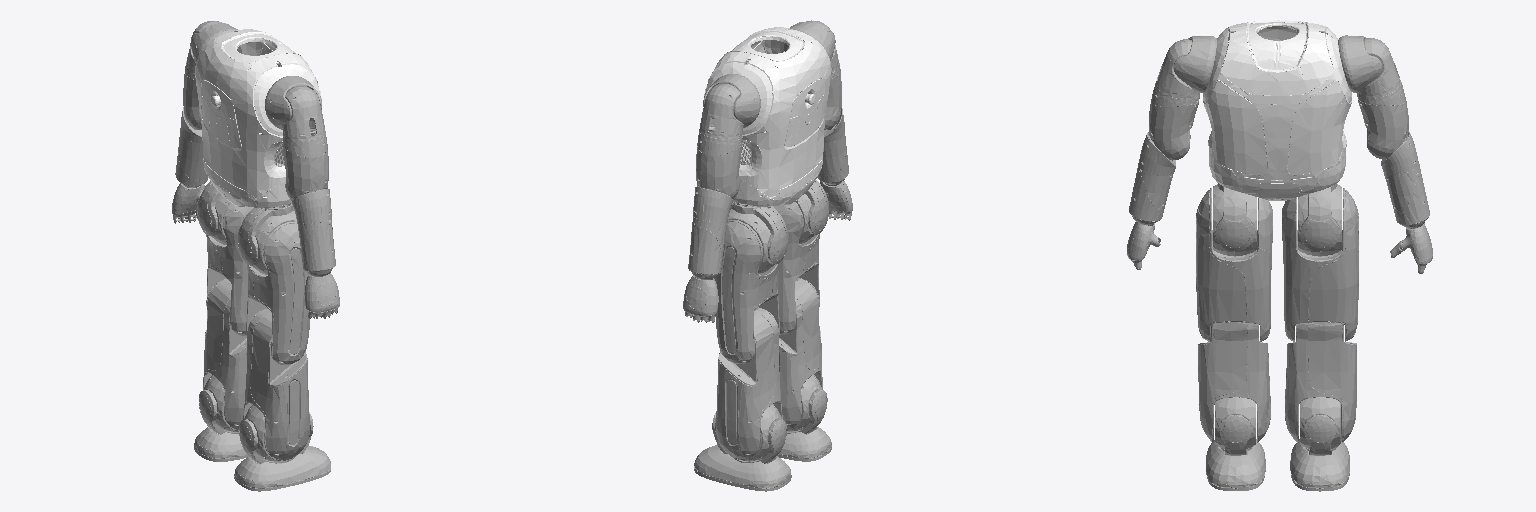
--- What the picture shows (computed from the rendered views, not written in the file) ---
The picture shows the robot from 3 angles, left to right: view 1: azimuth 30°, elevation 25°; view 2: azimuth 150°, elevation 25°; view 3: azimuth 270°, elevation 25°; orthographic projection.
Model walker with 56 links and 55 joints (48 revolute, 7 fixed), rooted at base_link, posed every joint at zero.
Links seen in each view (by area): view 1: base_link, right_leg_l4, right_leg_l3, left_leg_l4, left_leg_l3, right_leg_link2, right_limb_l3, right_limb_l2, right_limb_l5, left_leg_link2, right_leg_l1, right_palm_link (+12 smaller); view 2: base_link, left_leg_l4, left_leg_l3, right_leg_l4, right_leg_l3, left_leg_link2, left_limb_l3, left_limb_l2, left_limb_l5, right_leg_link2, left_palm_link, left_leg_l1 (+12 smaller); view 3: base_link, right_leg_l3, left_leg_l3, left_leg_l4, right_leg_l4, left_limb_l3, right_limb_l3, left_leg_link2, right_leg_link2, left_limb_l5, left_leg_l1, right_leg_l1 (+15 smaller).
Link boxes in pixels (x1,y1,x2,y2): base_link: (195, 29, 321, 207); right_leg_l4: (243, 308, 309, 459); right_leg_l3: (246, 221, 309, 364); left_leg_l4: (203, 279, 246, 429); left_leg_l3: (206, 203, 252, 335); right_leg_link2: (234, 445, 330, 491); right_limb_l3: (283, 134, 328, 200); right_limb_l2: (283, 86, 325, 141); right_limb_l5: (297, 218, 335, 271); left_leg_link2: (194, 427, 248, 461); right_leg_l1: (238, 204, 294, 265); right_palm_link: (304, 273, 339, 318); base_link: (704, 27, 831, 206); left_leg_l4: (716, 307, 782, 459); left_leg_l3: (714, 220, 779, 363); right_leg_l4: (779, 278, 822, 429); right_leg_l3: (773, 202, 819, 334); left_leg_link2: (694, 445, 791, 491); left_limb_l3: (696, 132, 742, 198); left_limb_l2: (699, 84, 742, 139); left_limb_l5: (688, 217, 727, 274); right_leg_link2: (777, 427, 831, 461); left_palm_link: (683, 276, 718, 322); left_leg_l1: (730, 202, 788, 263); base_link: (1203, 20, 1351, 200); right_leg_l3: (1196, 188, 1272, 341); left_leg_l3: (1282, 188, 1358, 341); left_leg_l4: (1285, 322, 1356, 442); right_leg_l4: (1198, 322, 1270, 442); left_limb_l3: (1357, 82, 1408, 158); right_limb_l3: (1149, 83, 1199, 160); left_leg_link2: (1290, 439, 1349, 491); right_leg_link2: (1206, 439, 1265, 490); left_limb_l5: (1384, 164, 1429, 225); left_leg_l1: (1300, 183, 1339, 251); right_leg_l1: (1215, 183, 1254, 251).
Bounding box of the posed robot: 0.2937 × 0.7949 × 1.25 m (x, y, z).
30 mesh visuals loaded from 54 distinct referenced files (30 binary STL); not drawn: 24 (reference not matched to a file when rendering).

robot.urdf — walker:
<robot
  name="walker">
  <link
    name="base_link">
    <inertial>
      <origin
        xyz="-0.00124874653232382 0.000246598785695634 -0.111598785207968"
        rpy="0 0 0" />
      <mass
        value="1.64221424158838" />
      <inertia
        ixx="0.0504230367553516"
        ixy="9.48207899309819E-06"
        ixz="0.000402652939677054"
        iyy="0.0425230890142075"
        iyz="3.19033530756639E-05"
        izz="0.0360972564220647" />
    </inertial>
    <visual>
      <origin
        xyz="0 0 0"
        rpy="0 0 0" />
      <geometry>
        <mesh
          filename="package://walker_description/meshes/base_link.STL" />
      </geometry>
      <material
        name="">
        <color
          rgba="1 1 1 1" />
      </material>
    </visual>
    <collision>
      <origin
        xyz="0 0 0"
        rpy="0 0 0" />
      <geometry>
        <mesh
          filename="package://walker_description/meshes/base_link.STL" />
      </geometry>
    </collision>
  </link>
  <link
    name="right_limb_l1">
    <inertial>
      <origin
        xyz="-0.00722075380474052 0.000182063550966449 -0.0361420965458128"
        rpy="0 0 0" />
      <mass
        value="0.0906357127023235" />
      <inertia
        ixx="0.000311522358740572"
        ixy="9.35574756778796E-08"
        ixz="9.36994646655716E-06"
        iyy="0.000215286397239846"
        iyz="1.95199653306617E-07"
        izz="0.000396295467948814" />
    </inertial>
    <visual>
      <origin
        xyz="0 0 0"
        rpy="0 0 0" />
      <geometry>
        <mesh
          filename="package://walker_description/meshes/right_limb_l1.STL" />
      </geometry>
      <material
        name="">
        <color
          rgba="0.752941176470588 0.752941176470588 0.752941176470588 1" />
      </material>
    </visual>
    <collision>
      <origin
        xyz="0 0 0"
        rpy="0 0 0" />
      <geometry>
        <mesh
          filename="package://walker_description/meshes/right_limb_l1.STL" />
      </geometry>
    </collision>
  </link>
  <joint
    name="right_limb_j1"
    type="revolute">
    <origin
      xyz="0 -0.23665 0.0163"
      rpy="-1.9576E-06 1.3107 -1.5708" />
    <parent
      link="base_link" />
    <child
      link="right_limb_l1" />
    <axis
      xyz="0 0 -1" />
    <limit
      lower="-3.1416"
      upper="0.8722"
      effort="96.2"
      velocity="0" />
  </joint>
  <link
    name="right_limb_l2">
    <inertial>
      <origin
        xyz="-0.00196280070849963 0.0273168501674689 -0.000134287637530872"
        rpy="0 0 0" />
      <mass
        value="0.113461395789569" />
      <inertia
        ixx="0.000358148474769472"
        ixy="4.04459296835339E-06"
        ixz="-1.32587419890355E-07"
        iyy="0.000288726351260568"
        iyz="-2.60810750383314E-07"
        izz="0.000390106430816898" />
    </inertial>
    <visual>
      <origin
        xyz="0 0 0"
        rpy="0 0 0" />
      <geometry>
        <mesh
          filename="package://walker_description/meshes/right_limb_l2.STL" />
      </geometry>
      <material
        name="">
        <color
          rgba="0.752941176470588 0.752941176470588 0.752941176470588 1" />
      </material>
    </visual>
    <collision>
      <origin
        xyz="0 0 0"
        rpy="0 0 0" />
      <geometry>
        <mesh
          filename="package://walker_description/meshes/right_limb_l2.STL" />
      </geometry>
    </collision>
  </link>
  <joint
    name="right_limb_j2"
    type="revolute">
    <origin
      xyz="0 0 0"
      rpy="2.5133 1.5708 0.94251" />
    <parent
      link="right_limb_l1" />
    <child
      link="right_limb_l2" />
    <axis
      xyz="0 0 -1" />
    <limit
      lower="-1.6572"
      upper="0.1047"
      effort="96.2"
      velocity="0" />
  </joint>
  <link
    name="right_limb_l3">
    <inertial>
      <origin
        xyz="0.00629656239509119 -0.000210202146791738 -0.0621806056819393"
        rpy="0 0 0" />
      <mass
        value="0.135195223417304" />
      <inertia
        ixx="0.000578598259089344"
        ixy="1.06936365158182E-06"
        ixz="-2.64856345206635E-05"
        iyy="0.00055597686018737"
        iyz="-3.95057844818449E-07"
        izz="0.000447021332772511" />
    </inertial>
    <visual>
      <origin
        xyz="0 0 0"
        rpy="0 0 0" />
      <geometry>
        <mesh
          filename="package://walker_description/meshes/right_limb_l3.STL" />
      </geometry>
      <material
        name="">
        <color
          rgba="0.752941176470588 0.752941176470588 0.752941176470588 1" />
      </material>
    </visual>
    <collision>
      <origin
        xyz="0 0 0"
        rpy="0 0 0" />
      <geometry>
        <mesh
          filename="package://walker_description/meshes/right_limb_l3.STL" />
      </geometry>
    </collision>
  </link>
  <joint
    name="right_limb_j3"
    type="revolute">
    <origin
      xyz="-0.00064368 0.22946 0"
      rpy="-1.5708 -5.382E-07 1.8518E-13" />
    <parent
      link="right_limb_l2" />
    <child
      link="right_limb_l3" />
    <axis
      xyz="0 0 1" />
    <limit
      lower="-2.0072"
      upper="2.0072"
      effort="96.2"
      velocity="0" />
  </joint>
  <link
    name="right_limb_l4">
    <inertial>
      <origin
        xyz="0.0187332468499471 0.0270289413426349 -0.000700111734367959"
        rpy="0 0 0" />
      <mass
        value="0.111555587464306" />
      <inertia
        ixx="0.000288414802228566"
        ixy="-3.8255971416539E-05"
        ixz="-1.37491897701913E-06"
        iyy="0.000238322279447384"
        iyz="-1.45890833294397E-06"
        izz="0.00032269764599304" />
    </inertial>
    <visual>
      <origin
        xyz="0 0 0"
        rpy="0 0 0" />
      <geometry>
        <mesh
          filename="package://walker_description/meshes/right_limb_l4.STL" />
      </geometry>
      <material
        name="">
        <color
          rgba="0.752941176470588 0.752941176470588 0.752941176470588 1" />
      </material>
    </visual>
    <collision>
      <origin
        xyz="0 0 0"
        rpy="0 0 0" />
      <geometry>
        <mesh
          filename="package://walker_description/meshes/right_limb_l4.STL" />
      </geometry>
    </collision>
  </link>
  <joint
    name="right_limb_j4"
    type="revolute">
    <origin
      xyz="0.02546 0 0"
      rpy="1.5708 -0.050009 -3.1416" />
    <parent
      link="right_limb_l3" />
    <child
      link="right_limb_l4" />
    <axis
      xyz="0 0 -1" />
    <limit
      lower="-2.3572"
      upper="0"
      effort="27.3"
      velocity="0" />
  </joint>
  <link
    name="right_limb_l5">
    <inertial>
      <origin
        xyz="-0.000596823513585643 0.000121710879949472 -0.0604708516266729"
        rpy="0 0 0" />
      <mass
        value="0.102332990879977" />
      <inertia
        ixx="0.000317212358011218"
        ixy="8.88268591235818E-08"
        ixz="-1.43322638083362E-06"
        iyy="0.000310459779022516"
        iyz="-1.31927102955734E-06"
        izz="0.00020181632910904" />
    </inertial>
    <visual>
      <origin
        xyz="0 0 0"
        rpy="0 0 0" />
      <geometry>
        <mesh
          filename="package://walker_description/meshes/right_limb_l5.STL" />
      </geometry>
      <material
        name="">
        <color
          rgba="0.752941176470588 0.752941176470588 0.752941176470588 1" />
      </material>
    </visual>
    <collision>
      <origin
        xyz="0 0 0"
        rpy="0 0 0" />
      <geometry>
        <mesh
          filename="package://walker_description/meshes/right_limb_l5.STL" />
      </geometry>
    </collision>
  </link>
  <joint
    name="right_limb_j5"
    type="revolute">
    <origin
      xyz="0.024799 0.20964 0"
      rpy="-0.26632 -1.5708 -1.3045" />
    <parent
      link="right_limb_l4" />
    <child
      link="right_limb_l5" />
    <axis
      xyz="0 0 1" />
    <limit
      lower="-2.4472"
      upper="2.4472"
      effort="27.3"
      velocity="0" />
  </joint>
  <link
    name="right_limb_l6">
    <inertial>
      <origin
        xyz="0.0128445139242113 0.000377301016695641 -0.000161615308550689"
        rpy="0 0 0" />
      <mass
        value="0.0224407079927888" />
      <inertia
        ixx="2.98997054662723E-05"
        ixy="-1.80995710652571E-07"
        ixz="1.11151156519791E-08"
        iyy="1.83543369800577E-05"
        iyz="4.01989443243718E-09"
        izz="1.79177399902685E-05" />
    </inertial>
    <visual>
      <origin
        xyz="0 0 0"
        rpy="0 0 0" />
      <geometry>
        <mesh
          filename="package://walker_description/meshes/right_limb_l6.STL" />
      </geometry>
      <material
        name="">
        <color
          rgba="0.752941176470588 0.752941176470588 0.752941176470588 1" />
      </material>
    </visual>
    <collision>
      <origin
        xyz="0 0 0"
        rpy="0 0 0" />
      <geometry>
        <mesh
          filename="package://walker_description/meshes/right_limb_l6.STL" />
      </geometry>
    </collision>
  </link>
  <joint
    name="right_limb_j6"
    type="revolute">
    <origin
      xyz="0 0 0"
      rpy="-1.5708 -1.5708 3.1416" />
    <parent
      link="right_limb_l5" />
    <child
      link="right_limb_l6" />
    <axis
      xyz="0 0 1" />
    <limit
      lower="-0.8722"
      upper="0.8722"
      effort="27.3"
      velocity="0" />
  </joint>
  <link
    name="right_limb_l7">
    <inertial>
      <origin
        xyz="0.0128445139242113 -0.000161615367552381 -0.000377300991422524"
        rpy="0 0 0" />
      <mass
        value="0.0224407079927888" />
      <inertia
        ixx="2.98997054662723E-05"
        ixy="1.11151439557976E-08"
        ixz="1.80995708914405E-07"
        iyy="1.79177399890113E-05"
        iyz="-4.01982615810442E-09"
        izz="1.83543369813149E-05" />
    </inertial>
    <visual>
      <origin
        xyz="0 0 0"
        rpy="0 0 0" />
      <geometry>
        <mesh
          filename="package://walker_description/meshes/right_limb_l7.STL" />
      </geometry>
      <material
        name="">
        <color
          rgba="0.752941176470588 0.752941176470588 0.752941176470588 1" />
      </material>
    </visual>
    <collision>
      <origin
        xyz="0 0 0"
        rpy="0 0 0" />
      <geometry>
        <mesh
          filename="package://walker_description/meshes/right_limb_l7.STL" />
      </geometry>
    </collision>
  </link>
  <joint
    name="right_limb_j7"
    type="revolute">
    <origin
      xyz="0 0 0"
      rpy="1.5708 -5.9686E-17 -1.3235E-23" />
    <parent
      link="right_limb_l6" />
    <child
      link="right_limb_l7" />
    <axis
      xyz="0 0 1" />
    <limit
      lower="-0.8722"
      upper="0.8722"
      effort="0.5"
      velocity="0" />
  </joint>
  <link
    name="right_palm_link">
    <inertial>
      <origin
        xyz="-3828219289578.35 -27150220863645.8 -968441561583.929"
        rpy="0 0 0" />
      <mass
        value="3.12234020972045E+21" />
      <inertia
        ixx="1.53634202985905E+47"
        ixy="-2.16351114641765E+46"
        ixz="-7.71718993986728E+44"
        iyy="3.24580628152209E+45"
        iyz="-5.47312981480697E+45"
        izz="1.56489558934723E+47" />
    </inertial>
    <visual>
      <origin
        xyz="0 0 0"
        rpy="0 0 0" />
      <geometry>
        <mesh
          filename="package://walker_description/meshes/right_palm_link.STL" />
      </geometry>
      <material
        name="">
        <color
          rgba="0.752941176470588 0.752941176470588 0.752941176470588 1" />
      </material>
    </visual>
    <collision>
      <origin
        xyz="0 0 0"
        rpy="0 0 0" />
      <geometry>
        <mesh
          filename="package://walker_description/meshes/right_palm_link.STL" />
      </geometry>
    </collision>
  </link>
  <joint
    name="right_palm_joint"
    type="fixed">
    <origin
      xyz="0.074796 0.011942 -0.02228"
      rpy="-1.0945E-07 -1.947E-07 1.7826" />
    <parent
      link="right_limb_l7" />
    <child
      link="right_palm_link" />
    <axis
      xyz="0 0 0" />
  </joint>
  <link
    name="right_thumb_l1">
    <inertial>
      <origin
        xyz="0.0109078578963989 -0.000509975490572051 -0.00754093105655729"
        rpy="0 0 0" />
      <mass
        value="0.00861449029298091" />
      <inertia
        ixx="6.47380528455047E-07"
        ixy="2.31441793918312E-08"
        ixz="-4.86167105842184E-09"
        iyy="1.90689640236422E-06"
        iyz="-1.39055202737285E-09"
        izz="1.98835804128197E-06" />
    </inertial>
    <visual>
      <origin
        xyz="0 0 0"
        rpy="0 0 0" />
      <geometry>
        <mesh
          filename="package://walker_description/meshes/right_thumb_l1.STL" />
      </geometry>
      <material
        name="">
        <color
          rgba="0.752941176470588 0.752941176470588 0.752941176470588 1" />
      </material>
    </visual>
    <collision>
      <origin
        xyz="0 0 0"
        rpy="0 0 0" />
      <geometry>
        <mesh
          filename="package://walker_description/meshes/right_thumb_l1.STL" />
      </geometry>
    </collision>
  </link>
  <joint
    name="right_thumb_j1"
    type="revolute">
    <origin
      xyz="0.029243 -0.01232 0.046918"
      rpy="0.2841 0.15098 -0.74405" />
    <parent
      link="right_palm_link" />
    <child
      link="right_thumb_l1" />
    <axis
      xyz="0 0 -1" />
    <limit
      lower="0"
      upper="1.6580"
      effort="0"
      velocity="0" />
  </joint>
  <link
    name="right_thumb_l2">
    <inertial>
      <origin
        xyz="0.00381391224370206 -0.00519298982364755 0.00691359394439262"
        rpy="0 0 0" />
      <mass
        value="0.00424317818671666" />
      <inertia
        ixx="3.56400138109385E-07"
        ixy="1.05147480910058E-07"
        ixz="8.76003562787889E-10"
        iyy="2.70951305064936E-07"
        iyz="-1.69974504756808E-09"
        izz="4.26072223593777E-07" />
    </inertial>
    <visual>
      <origin
        xyz="0 0 0"
        rpy="0 0 0" />
      <geometry>
        <mesh
          filename="package://walker_description/meshes/right_thumb_l2.STL" />
      </geometry>
      <material
        name="">
        <color
          rgba="0.752941176470588 0.752941176470588 0.752941176470588 1" />
      </material>
    </visual>
    <collision>
      <origin
        xyz="0 0 0"
        rpy="0 0 0" />
      <geometry>
        <mesh
          filename="package://walker_description/meshes/right_thumb_l2.STL" />
      </geometry>
    </collision>
  </link>
  <joint
    name="right_thumb_j2"
    type="revolute">
    <origin
      xyz="0.03655 0 -0.014481"
      rpy="-9.1041E-12 5.5133E-12 0.77938" />
    <parent
      link="right_thumb_l1" />
    <child
      link="right_thumb_l2" />
    <axis
      xyz="0 0 -1" />
    <limit
      lower="0"
      upper="1.6580"
      effort="0"
      velocity="0" />
  </joint>
  <link
    name="right_index_l1">
    <inertial>
      <origin
        xyz="0.0152771482029217 0.000408639325092774 -0.00626307273726634"
        rpy="0 0 0" />
      <mass
        value="0.00605247314202229" />
      <inertia
        ixx="3.65783992374843E-07"
        ixy="-1.00934807954167E-08"
        ixz="2.80428619606092E-09"
        iyy="1.39916151323277E-06"
        iyz="-6.99237852502151E-10"
        izz="1.41553939969484E-06" />
    </inertial>
    <visual>
      <origin
        xyz="0 0 0"
        rpy="0 0 0" />
      <geometry>
        <mesh
          filename="package://walker_description/meshes/right_index_l1.STL" />
      </geometry>
      <material
        name="">
        <color
          rgba="0.752941176470588 0.752941176470588 0.752941176470588 1" />
      </material>
    </visual>
    <collision>
      <origin
        xyz="0 0 0"
        rpy="0 0 0" />
      <geometry>
        <mesh
          filename="package://walker_description/meshes/right_index_l1.STL" />
      </geometry>
    </collision>
  </link>
  <joint
    name="right_index_j1"
    type="revolute">
    <origin
      xyz="-0.017699 -0.07587 0.055574"
      rpy="0.02196 0.053684 -1.3927" />
    <parent
      link="right_palm_link" />
    <child
      link="right_index_l1" />
    <axis
      xyz="0 0 1" />
    <limit
      lower="0"
      upper="1.6580"
      effort="0"
      velocity="0" />
  </joint>
  <link
    name="right_index_l2">
    <inertial>
      <origin
        xyz="0.00234422723007122 -0.0102129867424654 0.00542736940606858"
        rpy="0 0 0" />
      <mass
        value="0.00445698708822696" />
      <inertia
        ixx="5.55945076014295E-07"
        ixy="7.93649952032311E-08"
        ixz="3.91934574204352E-09"
        iyy="2.06935930101657E-07"
        iyz="-2.05205145649744E-08"
        izz="5.96534224716838E-07" />
    </inertial>
    <visual>
      <origin
        xyz="0 0 0"
        rpy="0 0 0" />
      <geometry>
        <mesh
          filename="package://walker_description/meshes/right_index_l2.STL" />
      </geometry>
      <material
        name="">
        <color
          rgba="0.752941176470588 0.752941176470588 0.752941176470588 1" />
      </material>
    </visual>
    <collision>
      <origin
        xyz="0 0 0"
        rpy="0 0 0" />
      <geometry>
        <mesh
          filename="package://walker_description/meshes/right_index_l2.STL" />
      </geometry>
    </collision>
  </link>
  <joint
    name="right_index_j2"
    type="revolute">
    <origin
      xyz="0.038459 0 -0.012377"
      rpy="-0.056721 0.01211 1.393" />
    <parent
      link="right_index_l1" />
    <child
      link="right_index_l2" />
    <axis
      xyz="-0.01211 -0.056687 0.99832" />
    <limit
      lower="0"
      upper="1.6580"
      effort="0"
      velocity="0" />
  </joint>
  <link
    name="right_middle_l1">
    <inertial>
      <origin
        xyz="0.0152762687335937 0.000409441523502835 -0.00626287883593618"
        rpy="0 0 0" />
      <mass
        value="0.00605245451819137" />
      <inertia
        ixx="3.65760702571443E-07"
        ixy="-1.01893397951885E-08"
        ixz="2.77675028800054E-09"
        iyy="1.39915356053326E-06"
        iyz="-7.67361702880687E-10"
        izz="1.41551554295053E-06" />
    </inertial>
    <visual>
      <origin
        xyz="0 0 0"
        rpy="0 0 0" />
      <geometry>
        <mesh
          filename="package://walker_description/meshes/right_middle_l1.STL" />
      </geometry>
      <material
        name="">
        <color
          rgba="0.752941176470588 0.752941176470588 0.752941176470588 1" />
      </material>
    </visual>
    <collision>
      <origin
        xyz="0 0 0"
        rpy="0 0 0" />
      <geometry>
        <mesh
          filename="package://walker_description/meshes/right_middle_l1.STL" />
      </geometry>
    </collision>
  </link>
  <joint
    name="right_middle_j1"
    type="revolute">
    <origin
      xyz="-0.018928 -0.080828 0.031376"
      rpy="0.025306 0.052053 -1.3281" />
    <parent
      link="right_palm_link" />
    <child
      link="right_middle_l1" />
    <axis
      xyz="0 0 1" />
    <limit
      lower="0"
      upper="1.6580"
      effort="0"
      velocity="0" />
  </joint>
  <link
    name="right_middle_l2">
    <inertial>
      <origin
        xyz="0.00289048514159013 -0.0100490531988507 0.00544431144992863"
        rpy="0 0 0" />
      <mass
        value="0.00445696556461066" />
      <inertia
        ixx="5.45564758790962E-07"
        ixy="9.81535413955716E-08"
        ixz="4.85238074391543E-09"
        iyy="2.11707171087763E-07"
        iyz="-1.96865301788018E-08"
        izz="5.91025277276737E-07" />
    </inertial>
    <visual>
      <origin
        xyz="0 0 0"
        rpy="0 0 0" />
      <geometry>
        <mesh
          filename="package://walker_description/meshes/right_middle_l2.STL" />
      </geometry>
      <material
        name="">
        <color
          rgba="0.752941176470588 0.752941176470588 0.752941176470588 1" />
      </material>
    </visual>
    <collision>
      <origin
        xyz="0 0 0"
        rpy="0 0 0" />
      <geometry>
        <mesh
          filename="package://walker_description/meshes/right_middle_l2.STL" />
      </geometry>
    </collision>
  </link>
  <joint
    name="right_middle_j2"
    type="revolute">
    <origin
      xyz="0.038459 0 -0.0122"
      rpy="-0.056603 0.012064 1.3285" />
    <parent
      link="right_middle_l1" />
    <child
      link="right_middle_l2" />
    <axis
      xyz="-0.012065 -0.056562 0.99833" />
    <limit
      lower="0"
      upper="1.6580"
      effort="0"
      velocity="0" />
  </joint>
  <link
    name="right_ring_l1">
    <inertial>
      <origin
        xyz="0.0152790983713949 -0.000407929740709662 0.00626138266966347"
        rpy="0 0 0" />
      <mass
        value="0.00605247678962811" />
      <inertia
        ixx="3.65675226655277E-07"
        ixy="1.01164336092346E-08"
        ixz="-2.81242513238477E-09"
        iyy="1.39904698102318E-06"
        iyz="-7.46466225120073E-10"
        izz="1.41555060676434E-06" />
    </inertial>
    <visual>
      <origin
        xyz="0 0 0"
        rpy="0 0 0" />
      <geometry>
        <mesh
          filename="package://walker_description/meshes/right_ring_l1.STL" />
      </geometry>
      <material
        name="">
        <color
          rgba="0.752941176470588 0.752941176470588 0.752941176470588 1" />
      </material>
    </visual>
    <collision>
      <origin
        xyz="0 0 0"
        rpy="0 0 0" />
      <geometry>
        <mesh
          filename="package://walker_description/meshes/right_ring_l1.STL" />
      </geometry>
    </collision>
  </link>
  <joint
    name="right_ring_j1"
    type="revolute">
    <origin
      xyz="-0.017845 -0.074821 0.007677"
      rpy="-3.1203 0.05396 -1.4056" />
    <parent
      link="right_palm_link" />
    <child
      link="right_ring_l1" />
    <axis
      xyz="1.7588E-05 0 -1" />
    <limit
      lower="0"
      upper="1.6580"
      effort="0"
      velocity="0" />
  </joint>
  <link
    name="right_ring_l2">
    <inertial>
      <origin
        xyz="0.00226446203390765 -0.0102341141638747 0.00542585656729078"
        rpy="0 0 0" />
      <mass
        value="0.00445699860314571" />
      <inertia
        ixx="5.57270584510553E-07"
        ixy="7.65166590723586E-08"
        ixz="3.78737544474492E-09"
        iyy="2.05690510460266E-07"
        iyz="-2.06747876235993E-08"
        izz="5.96524268555037E-07" />
    </inertial>
    <visual>
      <origin
        xyz="0 0 0"
        rpy="0 0 0" />
      <geometry>
        <mesh
          filename="package://walker_description/meshes/right_ring_l2.STL" />
      </geometry>
      <material
        name="">
        <color
          rgba="0.752941176470588 0.752941176470588 0.752941176470588 1" />
      </material>
    </visual>
    <collision>
      <origin
        xyz="0 0 0"
        rpy="0 0 0" />
      <geometry>
        <mesh
          filename="package://walker_description/meshes/right_ring_l2.STL" />
      </geometry>
    </collision>
  </link>
  <joint
    name="right_ring_j2"
    type="revolute">
    <origin
      xyz="0.038461 0 0.012203"
      rpy="3.0849 -0.012117 -1.4058" />
    <parent
      link="right_ring_l1" />
    <child
      link="right_ring_l2" />
    <axis
      xyz="-0.012113 -0.056705 0.99832" />
    <limit
      lower="0"
      upper="1.6580"
      effort="0"
      velocity="0" />
  </joint>
  <link
    name="right_pinky_l1">
    <inertial>
      <origin
        xyz="0.0136417719935673 -0.000125531934202922 -0.00569767013320732"
        rpy="0 0 0" />
      <mass
        value="0.00475338387931075" />
      <inertia
        ixx="2.41836333046608E-07"
        ixy="-7.21453266409626E-09"
        ixz="2.18288517443929E-09"
        iyy="8.45647103827571E-07"
        iyz="-5.90210689071872E-10"
        izz="8.54135009354069E-07" />
    </inertial>
    <visual>
      <origin
        xyz="0 0 0"
        rpy="0 0 0" />
      <geometry>
        <mesh
          filename="package://walker_description/meshes/right_pinky_l1.STL" />
      </geometry>
      <material
        name="">
        <color
          rgba="0.752941176470588 0.752941176470588 0.752941176470588 1" />
      </material>
    </visual>
    <collision>
      <origin
        xyz="0 0 0"
        rpy="0 0 0" />
      <geometry>
        <mesh
          filename="package://walker_description/meshes/right_pinky_l1.STL" />
      </geometry>
    </collision>
  </link>
  <joint
    name="right_pinky_j1"
    type="revolute">
    <origin
      xyz="-0.018167 -0.069717 -0.015649"
      rpy="0.063832 0.04715 -1.3412" />
    <parent
      link="right_palm_link" />
    <child
      link="right_pinky_l1" />
    <axis
      xyz="5.8842E-05 0 1" />
    <limit
      lower="0"
      upper="1.6580"
      effort="0"
      velocity="0" />
  </joint>
  <link
    name="right_pinky_l2">
    <inertial>
      <origin
        xyz="0.00385750559999631 -0.0117317540747549 0.00513394348645047"
        rpy="0 0 0" />
      <mass
        value="0.00390662275645546" />
      <inertia
        ixx="4.9087939252317E-07"
        ixy="1.11650195510138E-07"
        ixz="-8.41646329021195E-10"
        iyy="1.76444115029257E-07"
        iyz="1.94024217378013E-09"
        izz="5.41362797181206E-07" />
    </inertial>
    <visual>
      <origin
        xyz="0 0 0"
        rpy="0 0 0" />
      <geometry>
        <mesh
          filename="package://walker_description/meshes/right_pinky_l2.STL" />
      </geometry>
      <material
        name="">
        <color
          rgba="0.752941176470588 0.752941176470588 0.752941176470588 1" />
      </material>
    </visual>
    <collision>
      <origin
        xyz="0 0 0"
        rpy="0 0 0" />
      <geometry>
        <mesh
          filename="package://walker_description/meshes/right_pinky_l2.STL" />
      </geometry>
    </collision>
  </link>
  <joint
    name="right_pinky_j2"
    type="revolute">
    <origin
      xyz="0.033786 -0.00038214 -0.010543"
      rpy="7.2607E-05 6.2497E-06 1.3443" />
    <parent
      link="right_pinky_l1" />
    <child
      link="right_pinky_l2" />
    <axis
      xyz="0 0 1" />
    <limit
      lower="0"
      upper="1.6580"
      effort="0"
      velocity="0" />
  </joint>
  <link
    name="left_limb_l1">
    <inertial>
      <origin
        xyz="-0.00723118478663559 -0.00017669295908318 -0.0361510146492087"
        rpy="0 0 0" />
      <mass
        value="0.0906425644782499" />
      <inertia
        ixx="0.000311546571609671"
        ixy="1.46233470422137E-07"
        ixz="9.38915560600786E-06"
        iyy="0.000215270106429758"
        iyz="-1.74887531239602E-07"
        izz="0.000396323890766572" />
    </inertial>
    <visual>
      <origin
        xyz="0 0 0"
        rpy="0 0 0" />
      <geometry>
        <mesh
          filename="package://walker_description/meshes/left_limb_l1.STL" />
      </geometry>
      <material
        name="">
        <color
          rgba="0.752941176470588 0.752941176470588 0.752941176470588 1" />
      </material>
    </visual>
    <collision>
      <origin
        xyz="0 0 0"
        rpy="0 0 0" />
      <geometry>
        <mesh
          filename="package://walker_description/meshes/left_limb_l1.STL" />
      </geometry>
    </collision>
  </link>
  <joint
    name="left_limb_j1"
    type="revolute">
    <origin
      xyz="0 0.24142 0.018386"
      rpy="-1.931E-07 1.3073 1.5708" />
    <parent
      link="base_link" />
    <child
      link="left_limb_l1" />
    <axis
      xyz="0 0 -1" />
    <limit
      lower="-0.8722"
      upper="3.1416"
      effort="96.2"
      velocity="0" />
  </joint>
  <link
    name="left_limb_l2">
    <inertial>
      <origin
        xyz="-0.000955809738594438 -0.0269333403261617 -0.000117719319276233"
        rpy="0 0 0" />
      <mass
        value="0.111652182905858" />
      <inertia
        ixx="0.000356827361185567"
        ixy="-1.12533439596274E-06"
        ixz="-2.65449628458879E-07"
        iyy="0.000282975717348096"
        iyz="3.29216684248277E-07"
        izz="0.000383024214388443" />
    </inertial>
    <visual>
      <origin
        xyz="0 0 0"
        rpy="0 0 0" />
      <geometry>
        <mesh
          filename="package://walker_description/meshes/left_limb_l2.STL" />
      </geometry>
      <material
        name="">
        <color
          rgba="0.752941176470588 0.752941176470588 0.752941176470588 1" />
      </material>
    </visual>
    <collision>
      <origin
        xyz="0 0 0"
        rpy="0 0 0" />
      <geometry>
        <mesh
          filename="package://walker_description/meshes/left_limb_l2.STL" />
      </geometry>
    </collision>
  </link>
  <joint
    name="left_limb_j2"
    type="revolute">
    <origin
      xyz="0 0 0"
      rpy="-1.5708 1.5708 0" />
    <parent
      link="left_limb_l1" />
    <child
      link="left_limb_l2" />
    <axis
      xyz="0 0 1" />
    <limit
      lower="-1.6572"
      upper="0.1047"
      effort="96.2"
      velocity="0" />
  </joint>
  <link
    name="left_limb_l3">
    <inertial>
      <origin
        xyz="0.00627269966291388 0.000194319566014622 -0.0621535107459377"
        rpy="0 0 0" />
      <mass
        value="0.135126939485109" />
      <inertia
        ixx="0.000578159440804691"
        ixy="-1.08669345396034E-06"
        ixz="-2.63187856402938E-05"
        iyy="0.000555746273124769"
        iyz="2.4274818506786E-07"
        izz="0.00044678193897698" />
    </inertial>
    <visual>
      <origin
        xyz="0 0 0"
        rpy="0 0 0" />
      <geometry>
        <mesh
          filename="package://walker_description/meshes/left_limb_l3.STL" />
      </geometry>
      <material
        name="">
        <color
          rgba="0.752941176470588 0.752941176470588 0.752941176470588 1" />
      </material>
    </visual>
    <collision>
      <origin
        xyz="0 0 0"
        rpy="0 0 0" />
      <geometry>
        <mesh
          filename="package://walker_description/meshes/left_limb_l3.STL" />
      </geometry>
    </collision>
  </link>
  <joint
    name="left_limb_j3"
    type="revolute">
    <origin
      xyz="-0.00064368 -0.2285 0"
      rpy="1.5708 6.1653E-11 -2.7756E-17" />
    <parent
      link="left_limb_l2" />
    <child
      link="left_limb_l3" />
    <axis
      xyz="0 0 1" />
    <limit
      lower="-2.0072"
      upper="2.0072"
      effort="96.2"
      velocity="0" />
  </joint>
  <link
    name="left_limb_l4">
    <inertial>
      <origin
        xyz="0.0187474263134242 -0.0269365900000591 -0.000697445026925148"
        rpy="0 0 0" />
      <mass
        value="0.11154629806895" />
      <inertia
        ixx="0.00028845420774769"
        ixy="3.8269969495632E-05"
        ixz="-1.3877529241391E-06"
        iyy="0.000238329463729006"
        iyz="1.48262510934952E-06"
        izz="0.000322652845197085" />
    </inertial>
    <visual>
      <origin
        xyz="0 0 0"
        rpy="0 0 0" />
      <geometry>
        <mesh
          filename="package://walker_description/meshes/left_limb_l4.STL" />
      </geometry>
      <material
        name="">
        <color
          rgba="0.752941176470588 0.752941176470588 0.752941176470588 1" />
      </material>
    </visual>
    <collision>
      <origin
        xyz="0 0 0"
        rpy="0 0 0" />
      <geometry>
        <mesh
          filename="package://walker_description/meshes/left_limb_l4.STL" />
      </geometry>
    </collision>
  </link>
  <joint
    name="left_limb_j4"
    type="revolute">
    <origin
      xyz="0.025422 0 0"
      rpy="-1.5708 -0.046339 3.1416" />
    <parent
      link="left_limb_l3" />
    <child
      link="left_limb_l4" />
    <axis
      xyz="0 0 1" />
    <limit
      lower="-2.3572"
      upper="0"
      effort="96.2"
      velocity="0" />
  </joint>
  <link
    name="left_limb_l5">
    <inertial>
      <origin
        xyz="0.000547047098985953 -0.000122519646229002 -0.0604686375411661"
        rpy="0 0 0" />
      <mass
        value="0.102338558748505" />
      <inertia
        ixx="0.000317253893378651"
        ixy="9.52809865357166E-09"
        ixz="1.23465056753509E-06"
        iyy="0.000310424822694839"
        iyz="1.30897117817618E-06"
        izz="0.000201818691915647" />
    </inertial>
    <visual>
      <origin
        xyz="0 0 0"
        rpy="0 0 0" />
      <geometry>
        <mesh
          filename="package://walker_description/meshes/left_limb_l5.STL" />
      </geometry>
      <material
        name="">
        <color
          rgba="0.752941176470588 0.752941176470588 0.752941176470588 1" />
      </material>
    </visual>
    <collision>
      <origin
        xyz="0 0 0"
        rpy="0 0 0" />
      <geometry>
        <mesh
          filename="package://walker_description/meshes/left_limb_l5.STL" />
      </geometry>
    </collision>
  </link>
  <joint
    name="left_limb_j5"
    type="revolute">
    <origin
      xyz="0.024818 -0.22241 0"
      rpy="-1.5708 -1.5708 -3.1416" />
    <parent
      link="left_limb_l4" />
    <child
      link="left_limb_l5" />
    <axis
      xyz="0 0 1" />
    <limit
      lower="-2.4472"
      upper="2.4472"
      effort="27.3"
      velocity="0" />
  </joint>
  <link
    name="left_limb_l6">
    <inertial>
      <origin
        xyz="0.0125425664529848 0.000622049029732841 0.00052226894134122"
        rpy="0 0 0" />
      <mass
        value="0.0224426274363224" />
      <inertia
        ixx="2.99031109754486E-05"
        ixy="1.80107466242642E-07"
        ixz="1.2083547861946E-08"
        iyy="1.83549287965366E-05"
        iyz="-3.56041365932579E-09"
        izz="1.7918623567772E-05" />
    </inertial>
    <visual>
      <origin
        xyz="0 0 0"
        rpy="0 0 0" />
      <geometry>
        <mesh
          filename="package://walker_description/meshes/left_limb_l6.STL" />
      </geometry>
      <material
        name="">
        <color
          rgba="0.752941176470588 0.752941176470588 0.752941176470588 1" />
      </material>
    </visual>
    <collision>
      <origin
        xyz="0 0 0"
        rpy="0 0 0" />
      <geometry>
        <mesh
          filename="package://walker_description/meshes/left_limb_l6.STL" />
      </geometry>
    </collision>
  </link>
  <joint
    name="left_limb_j6"
    type="revolute">
    <origin
      xyz="0 0 0"
      rpy="1.5708 -1.5708 0" />
    <parent
      link="left_limb_l5" />
    <child
      link="left_limb_l6" />
    <axis
      xyz="0 0 -1" />
    <limit
      lower="-0.8722"
      upper="0.8722"
      effort="27.3"
      velocity="0" />
  </joint>
  <link
    name="left_limb_l7">
    <inertial>
      <origin
        xyz="0.0125425664529848 0.00052226894134122 -0.000622049029732841"
        rpy="0 0 0" />
      <mass
        value="0.0224426274363224" />
      <inertia
        ixx="2.99031109754486E-05"
        ixy="1.2083547861945E-08"
        ixz="-1.80107466242643E-07"
        iyy="1.7918623567772E-05"
        iyz="3.56041365932608E-09"
        izz="1.83549287965366E-05" />
    </inertial>
    <visual>
      <origin
        xyz="0 0 0"
        rpy="0 0 0" />
      <geometry>
        <mesh
          filename="package://walker_description/meshes/left_limb_l7.STL" />
      </geometry>
      <material
        name="">
        <color
          rgba="0.752941176470588 0.752941176470588 0.752941176470588 1" />
      </material>
    </visual>
    <collision>
      <origin
        xyz="0 0 0"
        rpy="0 0 0" />
      <geometry>
        <mesh
          filename="package://walker_description/meshes/left_limb_l7.STL" />
      </geometry>
    </collision>
  </link>
  <joint
    name="left_limb_j7"
    type="revolute">
    <origin
      xyz="0 0 0"
      rpy="1.5708 3.0389E-17 6.4236E-24" />
    <parent
      link="left_limb_l6" />
    <child
      link="left_limb_l7" />
    <axis
      xyz="0 0 -1" />
    <limit
      lower="-0.8722"
      upper="0.8722"
      effort="27.3"
      velocity="0" />
  </joint>
  <link
    name="left_palm_link">
    <inertial>
      <origin
        xyz="0.015922919736204 -0.0138313214453597 0.0219045185061652"
        rpy="0 0 0" />
      <mass
        value="0.0819372257156439" />
      <inertia
        ixx="0.000153363835173176"
        ixy="1.67361413147736E-05"
        ixz="6.26037102347951E-06"
        iyy="0.000103099876290357"
        iyz="-5.28417728738961E-07"
        izz="0.000120087679020098" />
    </inertial>
    <visual>
      <origin
        xyz="0 0 0"
        rpy="0 0 0" />
      <geometry>
        <mesh
          filename="package://walker_description/meshes/left_palm_link.STL" />
      </geometry>
      <material
        name="">
        <color
          rgba="0.752941176470588 0.752941176470588 0.752941176470588 1" />
      </material>
    </visual>
    <collision>
      <origin
        xyz="0 0 0"
        rpy="0 0 0" />
      <geometry>
        <mesh
          filename="package://walker_description/meshes/left_palm_link.STL" />
      </geometry>
    </collision>
  </link>
  <joint
    name="left_palm_joint"
    type="fixed">
    <origin
      xyz="0.073849 -0.0065547 -0.01588"
      rpy="-3.1478E-08 1.4374E-07 1.3553" />
    <parent
      link="left_limb_l7" />
    <child
      link="left_palm_link" />
    <axis
      xyz="0 0 0" />
  </joint>
  <link
    name="left_thumb_l1">
    <inertial>
      <origin
        xyz="0.0109077935886571 0.000509912566104553 -0.00754109244201351"
        rpy="0 0 0" />
      <mass
        value="0.00861402024435378" />
      <inertia
        ixx="6.4737028140632E-07"
        ixy="-2.31312229115833E-08"
        ixz="-4.83971007188527E-09"
        iyy="1.90672646289156E-06"
        iyz="1.40014779445873E-09"
        izz="1.98821903169098E-06" />
    </inertial>
    <visual>
      <origin
        xyz="0 0 0"
        rpy="0 0 0" />
      <geometry>
        <mesh
          filename="package://walker_description/meshes/left_thumb_l1.STL" />
      </geometry>
      <material
        name="">
        <color
          rgba="0.752941176470588 0.752941176470588 0.752941176470588 1" />
      </material>
    </visual>
    <collision>
      <origin
        xyz="0 0 0"
        rpy="0 0 0" />
      <geometry>
        <mesh
          filename="package://walker_description/meshes/left_thumb_l1.STL" />
      </geometry>
    </collision>
  </link>
  <joint
    name="left_thumb_j1"
    type="revolute">
    <origin
      xyz="-0.029569 -0.010189 0.047224"
      rpy="-0.21969 0.11307 -2.3458" />
    <parent
      link="left_palm_link" />
    <child
      link="left_thumb_l1" />
    <axis
      xyz="0 0 1" />
    <limit
      lower="0"
      upper="1.6580"
      effort="0"
      velocity="0" />
  </joint>
  <link
    name="left_thumb_l2">
    <inertial>
      <origin
        xyz="-0.003261188172134 -0.00670732804360864 0.00579509755504803"
        rpy="0 0 0" />
      <mass
        value="0.00424320273530089" />
      <inertia
        ixx="3.56339942071855E-07"
        ixy="-1.03305625527354E-07"
        ixz="-1.98675685150353E-08"
        iyy="2.76640278902835E-07"
        iyz="-2.89571665413784E-08"
        izz="4.20445500389882E-07" />
    </inertial>
    <visual>
      <origin
        xyz="0 0 0"
        rpy="0 0 0" />
      <geometry>
        <mesh
          filename="package://walker_description/meshes/left_thumb_l2.STL" />
      </geometry>
      <material
        name="">
        <color
          rgba="0.752941176470588 0.752941176470588 0.752941176470588 1" />
      </material>
    </visual>
    <collision>
      <origin
        xyz="0 0 0"
        rpy="0 0 0" />
      <geometry>
        <mesh
          filename="package://walker_description/meshes/left_thumb_l2.STL" />
      </geometry>
    </collision>
  </link>
  <joint
    name="left_thumb_j2"
    type="revolute">
    <origin
      xyz="0.03655 0 -0.014552"
      rpy="-0.23401 -0.07871 2.3426" />
    <parent
      link="left_thumb_l1" />
    <child
      link="left_thumb_l2" />
    <axis
      xyz="0.078637 -0.23116 0.96973" />
    <limit
      lower="0"
      upper="1.6580"
      effort="0"
      velocity="0" />
  </joint>
  <link
    name="left_index_l1">
    <inertial>
      <origin
        xyz="0.015009699537458 -0.000417441681802244 -0.00617410792230466"
        rpy="0 0 0" />
      <mass
        value="0.00596800864408191" />
      <inertia
        ixx="3.61715487582294E-07"
        ixy="1.11394201793223E-08"
        ixz="-9.4952257103692E-09"
        iyy="1.35226318505365E-06"
        iyz="3.77704527460794E-10"
        izz="1.37239697073221E-06" />
    </inertial>
    <visual>
      <origin
        xyz="0 0 0"
        rpy="0 0 0" />
      <geometry>
        <mesh
          filename="package://walker_description/meshes/left_index_l1.STL" />
      </geometry>
      <material
        name="">
        <color
          rgba="0.752941176470588 0.752941176470588 0.752941176470588 1" />
      </material>
    </visual>
    <collision>
      <origin
        xyz="0 0 0"
        rpy="0 0 0" />
      <geometry>
        <mesh
          filename="package://walker_description/meshes/left_index_l1.STL" />
      </geometry>
    </collision>
  </link>
  <joint
    name="left_index_j1"
    type="revolute">
    <origin
      xyz="0.019862 -0.070838 0.061199"
      rpy="0.007028 -0.014656 -1.7541" />
    <parent
      link="left_palm_link" />
    <child
      link="left_index_l1" />
    <axis
      xyz="0 0 -1" />
    <limit
      lower="0"
      upper="1.6580"
      effort="0"
      velocity="0" />
  </joint>
  <link
    name="left_index_l2">
    <inertial>
      <origin
        xyz="-0.00253991221635919 -0.00977019442171351 0.00611226356870592"
        rpy="0 0 0" />
      <mass
        value="0.00445720164001816" />
      <inertia
        ixx="5.54373543283004E-07"
        ixy="-8.29078359962857E-08"
        ixz="1.27234942447666E-09"
        iyy="2.07585009012315E-07"
        iyz="6.41834619340809E-09"
        izz="5.97529808476946E-07" />
    </inertial>
    <visual>
      <origin
        xyz="0 0 0"
        rpy="0 0 0" />
      <geometry>
        <mesh
          filename="package://walker_description/meshes/left_index_l2.STL" />
      </geometry>
      <material
        name="">
        <color
          rgba="0.752941176470588 0.752941176470588 0.752941176470588 1" />
      </material>
    </visual>
    <collision>
      <origin
        xyz="0 0 0"
        rpy="0 0 0" />
      <geometry>
        <mesh
          filename="package://walker_description/meshes/left_index_l2.STL" />
      </geometry>
    </collision>
  </link>
  <joint
    name="left_index_j2"
    type="revolute">
    <origin
      xyz="0.038461 0 -0.012199"
      rpy="0.015691 0.0042391 1.7541" />
    <parent
      link="left_index_l1" />
    <child
      link="left_index_l2" />
    <axis
      xyz="-0.004239 0.015691 -0.99987" />
    <limit
      lower="0"
      upper="1.6580"
      effort="0"
      velocity="0" />
  </joint>
  <link
    name="left_middle_l1">
    <inertial>
      <origin
        xyz="0.0150066791388741 -0.000415057780278949 -0.00617388522009044"
        rpy="0 0 0" />
      <mass
        value="0.00596791279305103" />
      <inertia
        ixx="3.61683279246153E-07"
        ixy="1.10458760323392E-08"
        ixz="-9.52816793623728E-09"
        iyy="1.35225818715989E-06"
        iyz="4.3104488201233E-10"
        izz="1.37239159557464E-06" />
    </inertial>
    <visual>
      <origin
        xyz="0 0 0"
        rpy="0 0 0" />
      <geometry>
        <mesh
          filename="package://walker_description/meshes/left_middle_l1.STL" />
      </geometry>
      <material
        name="">
        <color
          rgba="0.752941176470588 0.752941176470588 0.752941176470588 1" />
      </material>
    </visual>
    <collision>
      <origin
        xyz="0 0 0"
        rpy="0 0 0" />
      <geometry>
        <mesh
          filename="package://walker_description/meshes/left_middle_l1.STL" />
      </geometry>
    </collision>
  </link>
  <joint
    name="left_middle_j1"
    type="revolute">
    <origin
      xyz="0.021755 -0.077461 0.037447"
      rpy="0.0068833 -0.014869 -1.7395" />
    <parent
      link="left_palm_link" />
    <child
      link="left_middle_l1" />
    <axis
      xyz="0 0 -1" />
    <limit
      lower="0"
      upper="1.6580"
      effort="0"
      velocity="0" />
  </joint>
  <link
    name="left_middle_l2">
    <inertial>
      <origin
        xyz="-0.00226193230715843 -0.00982259142492187 0.00611526416870056"
        rpy="0 0 0" />
      <mass
        value="0.00445721267807365" />
      <inertia
        ixx="5.58236451515995E-07"
        ixy="-7.25714244465805E-08"
        ixz="1.16572381833957E-09"
        iyy="1.98180620041155E-07"
        iyz="6.55274496396905E-09"
        izz="5.91969671842962E-07" />
    </inertial>
    <visual>
      <origin
        xyz="0 0 0"
        rpy="0 0 0" />
      <geometry>
        <mesh
          filename="package://walker_description/meshes/left_middle_l2.STL" />
      </geometry>
      <material
        name="">
        <color
          rgba="0.752941176470588 0.752941176470588 0.752941176470588 1" />
      </material>
    </visual>
    <collision>
      <origin
        xyz="0 0 0"
        rpy="0 0 0" />
      <geometry>
        <mesh
          filename="package://walker_description/meshes/left_middle_l2.STL" />
      </geometry>
    </collision>
  </link>
  <joint
    name="left_middle_j2"
    type="revolute">
    <origin
      xyz="0.038459 0 -0.0122"
      rpy="0.015814 0.0042886 1.7395" />
    <parent
      link="left_middle_l1" />
    <child
      link="left_middle_l2" />
    <axis
      xyz="-0.0042886 0.015813 -0.99987" />
    <limit
      lower="0"
      upper="1.6580"
      effort="0"
      velocity="0" />
  </joint>
  <link
    name="left_ring_l1">
    <inertial>
      <origin
        xyz="0.0150066465486976 -0.000417740690786816 -0.00617161773571578"
        rpy="0 0 0" />
      <mass
        value="0.00596757485224949" />
      <inertia
        ixx="3.615497084021E-07"
        ixy="1.12995090741574E-08"
        ixz="-9.55073355761977E-09"
        iyy="1.3520788201919E-06"
        iyz="3.71727202398546E-10"
        izz="1.37236862181694E-06" />
    </inertial>
    <visual>
      <origin
        xyz="0 0 0"
        rpy="0 0 0" />
      <geometry>
        <mesh
          filename="package://walker_description/meshes/left_ring_l1.STL" />
      </geometry>
      <material
        name="">
        <color
          rgba="0.752941176470588 0.752941176470588 0.752941176470588 1" />
      </material>
    </visual>
    <collision>
      <origin
        xyz="0 0 0"
        rpy="0 0 0" />
      <geometry>
        <mesh
          filename="package://walker_description/meshes/left_ring_l1.STL" />
      </geometry>
    </collision>
  </link>
  <joint
    name="left_ring_j1"
    type="revolute">
    <origin
      xyz="0.020863 -0.073224 0.013361"
      rpy="0.0058882 -0.015148 -1.6781" />
    <parent
      link="left_palm_link" />
    <child
      link="left_ring_l1" />
    <axis
      xyz="1.7588E-05 0 -1" />
    <limit
      lower="0"
      upper="1.6580"
      effort="0"
      velocity="0" />
  </joint>
  <link
    name="left_ring_l2">
    <inertial>
      <origin
        xyz="-0.00178574011082355 -0.00993451550935287 0.00611862290821674"
        rpy="0 0 0" />
      <mass
        value="0.00445721563393106" />
      <inertia
        ixx="5.6496205492444E-07"
        ixy="-5.57715446692938E-08"
        ixz="8.3628660045896E-10"
        iyy="1.97066925221151E-07"
        iyz="6.65676794938224E-09"
        izz="5.97527568635283E-07" />
    </inertial>
    <visual>
      <origin
        xyz="0 0 0"
        rpy="0 0 0" />
      <geometry>
        <mesh
          filename="package://walker_description/meshes/left_ring_l2.STL" />
      </geometry>
      <material
        name="">
        <color
          rgba="0.752941176470588 0.752941176470588 0.752941176470588 1" />
      </material>
    </visual>
    <collision>
      <origin
        xyz="0 0 0"
        rpy="0 0 0" />
      <geometry>
        <mesh
          filename="package://walker_description/meshes/left_ring_l2.STL" />
      </geometry>
    </collision>
  </link>
  <joint
    name="left_ring_j2"
    type="revolute">
    <origin
      xyz="0.038459 0 -0.012203"
      rpy="0.015691 0.0042325 1.6781" />
    <parent
      link="left_ring_l1" />
    <child
      link="left_ring_l2" />
    <axis
      xyz="-0.0042344 0.015673 -0.99987" />
    <limit
      lower="0"
      upper="1.6580"
      effort="0"
      velocity="0" />
  </joint>
  <link
    name="left_pinky_l1">
    <inertial>
      <origin
        xyz="0.0129948215470086 6.74415057725364E-05 -0.00569979807526572"
        rpy="0 0 0" />
      <mass
        value="0.00474006684613925" />
      <inertia
        ixx="2.40789497863474E-07"
        ixy="6.40265040809256E-09"
        ixz="2.07928316307001E-09"
        iyy="8.43737864578539E-07"
        iyz="7.44359550497443E-10"
        izz="8.51493879419396E-07" />
    </inertial>
    <visual>
      <origin
        xyz="0 0 0"
        rpy="0 0 0" />
      <geometry>
        <mesh
          filename="package://walker_description/meshes/left_pinky_l1.STL" />
      </geometry>
      <material
        name="">
        <color
          rgba="0.752941176470588 0.752941176470588 0.752941176470588 1" />
      </material>
    </visual>
    <collision>
      <origin
        xyz="0 0 0"
        rpy="0 0 0" />
      <geometry>
        <mesh
          filename="package://walker_description/meshes/left_pinky_l1.STL" />
      </geometry>
    </collision>
  </link>
  <joint
    name="left_pinky_j1"
    type="revolute">
    <origin
      xyz="0.021779 -0.069944 -0.010184"
      rpy="-0.034105 -0.016248 -1.6441" />
    <parent
      link="left_palm_link" />
    <child
      link="left_pinky_l1" />
    <axis
      xyz="6.6172E-05 0 -1" />
    <limit
      lower="0"
      upper="1.6580"
      effort="0"
      velocity="0" />
  </joint>
  <link
    name="left_pinky_l2">
    <inertial>
      <origin
        xyz="-0.00207317179159017 -0.0122243534973782 -0.00503143611359275"
        rpy="0 0 0" />
      <mass
        value="0.00390644847680662" />
      <inertia
        ixx="5.18285631399037E-07"
        ixy="-5.55253133560046E-08"
        ixz="2.07796178117898E-09"
        iyy="1.49229602527501E-07"
        iyz="9.30943070175618E-09"
        izz="5.41041706459076E-07" />
    </inertial>
    <visual>
      <origin
        xyz="0 0 0"
        rpy="0 0 0" />
      <geometry>
        <mesh
          filename="package://walker_description/meshes/left_pinky_l2.STL" />
      </geometry>
      <material
        name="">
        <color
          rgba="0.752941176470588 0.752941176470588 0.752941176470588 1" />
      </material>
    </visual>
    <collision>
      <origin
        xyz="0 0 0"
        rpy="0 0 0" />
      <geometry>
        <mesh
          filename="package://walker_description/meshes/left_pinky_l2.STL" />
      </geometry>
    </collision>
  </link>
  <joint
    name="left_pinky_j2"
    type="revolute">
    <origin
      xyz="0.03311 0.00034528 -0.00040579"
      rpy="0.013704 -0.035204 1.6442" />
    <parent
      link="left_pinky_l1" />
    <child
      link="left_pinky_l2" />
    <axis
      xyz="0.035197 0.013623 -0.99929" />
    <limit
      lower="0"
      upper="1.6580"
      effort="0"
      velocity="0" />
  </joint>
  <link
    name="head_l1">
    <inertial>
      <origin
        xyz="-0.00101176466106917 2.14927259107045E-05 2.40864327796242E-05"
        rpy="0 0 0" />
      <mass
        value="0.03301938209839" />
      <inertia
        ixx="4.47378645859373E-05"
        ixy="2.81915971144153E-10"
        ixz="-2.73721904719924E-10"
        iyy="4.50204226321243E-05"
        iyz="9.47033251933937E-08"
        izz="8.09468687396382E-05" />
    </inertial>
  </link>
  <joint
    name="head_j1"
    type="revolute">
    <origin
      xyz="0 -0.00016327 0.098503"
      rpy="0.0016575 -7.7846E-07 -1.2903E-09" />
    <parent
      link="base_link" />
    <child
      link="head_l1" />
    <axis
      xyz="0 0 1" />
    <limit
      lower="-1.6572"
      upper="1.6572"
      effort="3.5"
      velocity="0" />
  </joint>
  <link
    name="head_l2">
    <inertial>
      <origin
        xyz="-0.00101176466106923 2.40864327795132E-05 -2.14927259107323E-05"
        rpy="0 0 0" />
      <mass
        value="0.03301938209839" />
      <inertia
        ixx="4.47378645859373E-05"
        ixy="-2.73721904719871E-10"
        ixz="-2.81915971158962E-10"
        iyy="8.09468687396382E-05"
        iyz="-9.47033251933937E-08"
        izz="4.50204226321243E-05" />
    </inertial>
    <visual>
      <origin
        xyz="0 0 0"
        rpy="0 0 0" />
      <geometry>
        <mesh
          filename="package://walker_description/meshes/walker_head.dae" />
      </geometry>
      <material
        name="">
        <color
          rgba="0.752941176470588 0.752941176470588 0.752941176470588 1" />
      </material>
    </visual>
    <collision>
      <origin
        xyz="0 0 0"
        rpy="0 0 0" />
      <geometry>
        <mesh
          filename="package://walker_description/meshes/walker_head.dae" />
      </geometry>
    </collision>
  </link>
  <joint
    name="head_j2"
    type="revolute">
    <origin
      xyz="0 0 0"
      rpy="1.5708 0 0" />
    <parent
      link="head_l1" />
    <child
      link="head_l2" />
    <axis
      xyz="0 0 -1" />
    <limit
      lower="-0.5232"
      upper="0.5232"
      effort="3.5"
      velocity="0" />
  </joint>
  <link
    name="head_l3">
    <inertial>
      <origin
        xyz="3.54592869765136E-05 0.0428621473767309 -0.0791185735185245"
        rpy="0 0 0" />
      <mass
        value="1.20773190668416" />
      <inertia
        ixx="0.00745100600669459"
        ixy="-8.626335157939E-07"
        ixz="4.68776412376162E-06"
        iyy="0.00893488331919254"
        iyz="0.00039432451273699"
        izz="0.0106759110882988" />
    </inertial>
  </link>
  <joint
    name="head_j3"
    type="fixed">
    <origin
      xyz="0.084415 0.093313 0.00013289"
      rpy="7.2818E-07 1.5708 0" />
    <parent
      link="head_l2" />
    <child
      link="head_l3" />
    <axis
      xyz="0 0 0" />
  </joint>
  <link
    name="right_leg_l1">
    <inertial>
      <origin
        xyz="5.11129158979606E-06 -0.00936418225303892 -0.0512174036838659"
        rpy="0 0 0" />
      <mass
        value="0.319858080834731" />
      <inertia
        ixx="0.00254235658315077"
        ixy="1.57337755179475E-07"
        ixz="-6.66232939731805E-08"
        iyy="0.00094385758061583"
        iyz="4.82425859167379E-05"
        izz="0.0019715721917557" />
    </inertial>
    <visual>
      <origin
        xyz="0 0 0"
        rpy="0 0 0" />
      <geometry>
        <mesh
          filename="package://walker_description/meshes/right_leg_l1.STL" />
      </geometry>
      <material
        name="">
        <color
          rgba="0.752941176470588 0.752941176470588 0.752941176470588 1" />
      </material>
    </visual>
    <collision>
      <origin
        xyz="0 0 0"
        rpy="0 0 0" />
      <geometry>
        <mesh
          filename="package://walker_description/meshes/right_leg_l1.STL" />
      </geometry>
    </collision>
  </link>
  <joint
    name="right_leg_j1"
    type="revolute">
    <origin
      xyz="0 -0.110 -0.43709"
      rpy="-3.1416 0.0016575 -1.5708" />
    <parent
      link="base_link" />
    <child
      link="right_leg_l1" />
    <axis
      xyz="0 0 -1" />
    <limit
      lower="-0.8722"
      upper="0.8722"
      effort="160"
      velocity="0" />
  </joint>
  <link
    name="right_leg_l2">
    <inertial>
      <origin
        xyz="-6.5633908391538E-06 -5.57679072622636E-05 -0.00164948244371405"
        rpy="0 0 0" />
      <mass
        value="0.267364973607992" />
      <inertia
        ixx="0.0012488527525295"
        ixy="-1.5318639928393E-07"
        ixz="1.42446025939976E-08"
        iyy="0.00186097534915346"
        iyz="1.09072987197785E-06"
        izz="0.00155483228726037" />
    </inertial>
    <visual>
      <origin
        xyz="0 0 0"
        rpy="0 0 0" />
      <geometry>
        <mesh
          filename="package://walker_description/meshes/right_leg_l2.STL" />
      </geometry>
      <material
        name="">
        <color
          rgba="0.752941176470588 0.752941176470588 0.752941176470588 1" />
      </material>
    </visual>
    <collision>
      <origin
        xyz="0 0 0"
        rpy="0 0 0" />
      <geometry>
        <mesh
          filename="package://walker_description/meshes/right_leg_l2.STL" />
      </geometry>
    </collision>
  </link>
  <joint
    name="right_leg_j2"
    type="revolute">
    <origin
      xyz="0 0 0"
      rpy="1.5708 -1.5708 0" />
    <parent
      link="right_leg_l1" />
    <child
      link="right_leg_l2" />
    <axis
      xyz="0 0 1" />
    <limit
      lower="-0.6112"
      upper="0.6112"
      effort="270"
      velocity="0" />
  </joint>
  <link
    name="right_leg_l3">
    <inertial>
      <origin
        xyz="-6.5633908391538E-06 -0.00164948244371405 5.57679072622636E-05"
        rpy="0 0 0" />
      <mass
        value="0.267364973607992" />
      <inertia
        ixx="0.0012488527525295"
        ixy="1.42446025940514E-08"
        ixz="1.5318639928393E-07"
        iyy="0.00155483228726037"
        iyz="-1.09072987197784E-06"
        izz="0.00186097534915346" />
    </inertial>
    <visual>
      <origin
        xyz="0 0 0"
        rpy="0 0 0" />
      <geometry>
        <mesh
          filename="package://walker_description/meshes/right_leg_l3.STL" />
      </geometry>
      <material
        name="">
        <color
          rgba="0.752941176470588 0.752941176470588 0.752941176470588 1" />
      </material>
    </visual>
    <collision>
      <origin
        xyz="0 0 0"
        rpy="0 0 0" />
      <geometry>
        <mesh
          filename="package://walker_description/meshes/right_leg_l3.STL" />
      </geometry>
    </collision>
  </link>
  <joint
    name="right_leg_j3"
    type="revolute">
    <origin
      xyz="0 0 0"
      rpy="1.5708 0 -3.6455E-33" />
    <parent
      link="right_leg_l2" />
    <child
      link="right_leg_l3" />
    <axis
      xyz="0 0 -1" />
    <limit
      lower="-1.4872"
      upper="0.6112"
      effort="270"
      velocity="0" />
  </joint>
  <link
    name="right_leg_link1">
    <inertial>
      <origin
        xyz="-0.00142087955151146 0.0169322449435227 0.0018595931132096"
        rpy="0 0 0" />
      <mass
        value="0.684322357309278" />
      <inertia
        ixx="0.00954952360792742"
        ixy="-4.80368528637106E-05"
        ixz="-1.16597038259326E-05"
        iyy="0.00492713857542187"
        iyz="0.000202093537905228"
        izz="0.0117254451783956" />
    </inertial>
    <visual>
      <origin
        xyz="0 0 0"
        rpy="0 0 0" />
      <geometry>
        <mesh
          filename="package://walker_description/meshes/right_leg_link1.STL" />
      </geometry>
      <material
        name="">
        <color
          rgba="0.752941176470588 0.752941176470588 0.752941176470588 1" />
      </material>
    </visual>
    <collision>
      <origin
        xyz="0 0 0"
        rpy="0 0 0" />
      <geometry>
        <mesh
          filename="package://walker_description/meshes/right_leg_link1.STL" />
      </geometry>
    </collision>
  </link>
  <joint
    name="right_leg_joint1"
    type="fixed">
    <origin
      xyz="0.109108017985617 0.0115828770565157 -0.000478265954605414"
      rpy="1.57079632667051 1.5707963267949 0" />
    <parent
      link="right_leg_l3" />
    <child
      link="right_leg_link1" />
    <axis
      xyz="0 0 0" />
  </joint>
  <link
    name="right_leg_l4">
    <inertial>
      <origin
        xyz="0.144364908610918 0.00102666849127708 -0.0602126138281597"
        rpy="0 0 0" />
      <mass
        value="0.563191990876251" />
      <inertia
        ixx="0.00349428616791082"
        ixy="6.68850844345398E-05"
        ixz="-2.3461690047968E-05"
        iyy="0.00919226857078176"
        iyz="-6.35361998636887E-06"
        izz="0.00803458705956712" />
    </inertial>
    <visual>
      <origin
        xyz="0 0 0"
        rpy="0 0 0" />
      <geometry>
        <mesh
          filename="package://walker_description/meshes/right_leg_l4.STL" />
      </geometry>
      <material
        name="">
        <color
          rgba="0.752941176470588 0.752941176470588 0.752941176470588 1" />
      </material>
    </visual>
    <collision>
      <origin
        xyz="0 0 0"
        rpy="0 0 0" />
      <geometry>
        <mesh
          filename="package://walker_description/meshes/right_leg_l4.STL" />
      </geometry>
    </collision>
  </link>
  <joint
    name="right_leg_j4"
    type="revolute">
    <origin
      xyz="-0.062478 0.18089 0.011583"
      rpy="-1.5708 -1.2439E-10 1.5708" />
    <parent
      link="right_leg_link1" />
    <child
      link="right_leg_l4" />
    <axis
      xyz="0 0 -1" />
    <limit
      lower="-0.2622"
      upper="2.2672"
      effort="270"
      velocity="0" />
  </joint>
  <link
    name="right_leg_l5">
    <inertial>
      <origin
        xyz="7.96335833541661E-06 0.000381749364422312 0.000653555695878161"
        rpy="0 0 0" />
      <mass
        value="0.273290194984624" />
      <inertia
        ixx="0.00109931070401539"
        ixy="-2.12453559703151E-07"
        ixz="9.96056672112188E-08"
        iyy="0.00122880276053965"
        iyz="7.33600925422275E-07"
        izz="0.00151564864910183" />
    </inertial>
    <visual>
      <origin
        xyz="0 0 0"
        rpy="0 0 0" />
      <geometry>
        <mesh
          filename="package://walker_description/meshes/right_leg_l5.STL" />
      </geometry>
      <material
        name="">
        <color
          rgba="0.752941176470588 0.752941176470588 0.752941176470588 1" />
      </material>
    </visual>
    <collision>
      <origin
        xyz="0 0 0"
        rpy="0 0 0" />
      <geometry>
        <mesh
          filename="package://walker_description/meshes/right_leg_l5.STL" />
      </geometry>
    </collision>
  </link>
  <joint
    name="right_leg_j5"
    type="revolute">
    <origin
      xyz="0.275 0 -0.0622"
      rpy="-2.4228E-16 -7.0505E-30 -2.4021E-16" />
    <parent
      link="right_leg_l4" />
    <child
      link="right_leg_l5" />
    <axis
      xyz="0 0 -1" />
    <limit
      lower="-1.4872"
      upper="0.6112"
      effort="160"
      velocity="0" />
  </joint>
  <link
    name="right_leg_l6">
    <inertial>
      <origin
        xyz="7.96335833530559E-06 -0.000653555695878175 0.000381749364422368"
        rpy="0 0 0" />
      <mass
        value="0.273290194984624" />
      <inertia
        ixx="0.00109931070401539"
        ixy="-9.96056672111714E-08"
        ixz="-2.12453559703205E-07"
        iyy="0.00151564864910183"
        iyz="-7.33600925422326E-07"
        izz="0.00122880276053965" />
    </inertial>
    <visual>
      <origin
        xyz="0 0 0"
        rpy="0 0 0" />
      <geometry>
        <mesh
          filename="package://walker_description/meshes/right_leg_l6.STL" />
      </geometry>
      <material
        name="">
        <color
          rgba="0.752941176470588 0.752941176470588 0.752941176470588 1" />
      </material>
    </visual>
    <collision>
      <origin
        xyz="0 0 0"
        rpy="0 0 0" />
      <geometry>
        <mesh
          filename="package://walker_description/meshes/right_leg_l6.STL" />
      </geometry>
    </collision>
  </link>
  <joint
    name="right_leg_j6"
    type="revolute">
    <origin
      xyz="0 0 0"
      rpy="-1.5708 2.1861E-32 0" />
    <parent
      link="right_leg_l5" />
    <child
      link="right_leg_l6" />
    <axis
      xyz="0 0 1" />
    <limit
      lower="-0.6112"
      upper="0.6112"
      effort="160"
      velocity="0" />
  </joint>
  <link
    name="right_leg_link2">
    <inertial>
      <origin
        xyz="5.34466089641278E-05 -0.0271413448383173 0.0158898181923479"
        rpy="0 0 0" />
      <mass
        value="0.846568539228477" />
      <inertia
        ixx="0.00616159172023952"
        ixy="1.09312906490756E-06"
        ixz="-1.69420307973724E-06"
        iyy="0.00563302608024886"
        iyz="0.000157121150126078"
        izz="0.0028391224604733" />
    </inertial>
    <visual>
      <origin
        xyz="0 0 0"
        rpy="0 0 0" />
      <geometry>
        <mesh
          filename="package://walker_description/meshes/right_leg_link2.STL" />
      </geometry>
      <material
        name="">
        <color
          rgba="0.752941176470588 0.752941176470588 0.752941176470588 1" />
      </material>
    </visual>
    <collision>
      <origin
        xyz="0 0 0"
        rpy="0 0 0" />
      <geometry>
        <mesh
          filename="package://walker_description/meshes/right_leg_link2.STL" />
      </geometry>
    </collision>
  </link>
  <joint
    name="right_leg_joint2"
    type="fixed">
    <origin
      xyz="0.0757484988059719 0 0"
      rpy="-1.24388213768849E-10 -1.32978657476726E-16 1.5707963267949" />
    <parent
      link="right_leg_l6" />
    <child
      link="right_leg_link2" />
    <axis
      xyz="0 0 0" />
  </joint>
  <link
    name="left_leg_l1">
    <inertial>
      <origin
        xyz="-5.11729121482896E-06 0.00936420392659232 -0.0512174071313175"
        rpy="0 0 0" />
      <mass
        value="0.319858278400238" />
      <inertia
        ixx="0.00254235702064034"
        ixy="1.57444035565841E-07"
        ixz="6.65716426297285E-08"
        iyy="0.000943857844567228"
        iyz="-4.82425522581393E-05"
        izz="0.00197157321730625" />
    </inertial>
    <visual>
      <origin
        xyz="0 0 0"
        rpy="0 0 0" />
      <geometry>
        <mesh
          filename="package://walker_description/meshes/left_leg_l1.STL" />
      </geometry>
      <material
        name="">
        <color
          rgba="0.752941176470588 0.752941176470588 0.752941176470588 1" />
      </material>
    </visual>
    <collision>
      <origin
        xyz="0 0 0"
        rpy="0 0 0" />
      <geometry>
        <mesh
          filename="package://walker_description/meshes/left_leg_l1.STL" />
      </geometry>
    </collision>
  </link>
  <joint
    name="left_leg_j1"
    type="revolute">
    <origin
      xyz="0 0.110 -0.43677"
      rpy="3.1416 -0.0016575 1.5708" />
    <parent
      link="base_link" />
    <child
      link="left_leg_l1" />
    <axis
      xyz="0 0 -1" />
    <limit
      lower="-0.8722"
      upper="0.8722"
      effort="160"
      velocity="0" />
  </joint>
  <link
    name="left_leg_l2">
    <inertial>
      <origin
        xyz="-2.80791043860348E-06 -5.52021585495388E-05 -0.00165084747917321"
        rpy="0 0 0" />
      <mass
        value="0.267356799799025" />
      <inertia
        ixx="0.00124886157714483"
        ixy="-1.26116836235839E-07"
        ixz="-5.58754914566251E-08"
        iyy="0.00186090476591848"
        iyz="1.08419803614329E-06"
        izz="0.00155478511176639" />
    </inertial>
    <visual>
      <origin
        xyz="0 0 0"
        rpy="0 0 0" />
      <geometry>
        <mesh
          filename="package://walker_description/meshes/left_leg_l2.STL" />
      </geometry>
      <material
        name="">
        <color
          rgba="0.752941176470588 0.752941176470588 0.752941176470588 1" />
      </material>
    </visual>
    <collision>
      <origin
        xyz="0 0 0"
        rpy="0 0 0" />
      <geometry>
        <mesh
          filename="package://walker_description/meshes/left_leg_l2.STL" />
      </geometry>
    </collision>
  </link>
  <joint
    name="left_leg_j2"
    type="revolute">
    <origin
      xyz="0 0 0"
      rpy="1.5708 -1.5708 0" />
    <parent
      link="left_leg_l1" />
    <child
      link="left_leg_l2" />
    <axis
      xyz="0 0 -1" />
    <limit
      lower="-0.6112"
      upper="0.6112"
      effort="270"
      velocity="0" />
  </joint>
  <link
    name="left_leg_l3">
    <inertial>
      <origin
        xyz="-2.80791043856185E-06 0.00165084747917332 -5.52021585495388E-05"
        rpy="0 0 0" />
      <mass
        value="0.267356799799026" />
      <inertia
        ixx="0.00124886157714483"
        ixy="5.58754914573585E-08"
        ixz="-1.26116836235851E-07"
        iyy="0.00155478511176639"
        iyz="-1.08419803614329E-06"
        izz="0.00186090476591849" />
    </inertial>
    <visual>
      <origin
        xyz="0 0 0"
        rpy="0 0 0" />
      <geometry>
        <mesh
          filename="package://walker_description/meshes/left_leg_l3.STL" />
      </geometry>
      <material
        name="">
        <color
          rgba="0.752941176470588 0.752941176470588 0.752941176470588 1" />
      </material>
    </visual>
    <collision>
      <origin
        xyz="0 0 0"
        rpy="0 0 0" />
      <geometry>
        <mesh
          filename="package://walker_description/meshes/left_leg_l3.STL" />
      </geometry>
    </collision>
  </link>
  <joint
    name="left_leg_j3"
    type="revolute">
    <origin
      xyz="0 0 0"
      rpy="1.5708 0 1.5647E-33" />
    <parent
      link="left_leg_l2" />
    <child
      link="left_leg_l3" />
    <axis
      xyz="0 0 1" />
    <limit
      lower="-1.4872"
      upper="0.6112"
      effort="270"
      velocity="0" />
  </joint>
  <link
    name="left_leg_link1">
    <inertial>
      <origin
        xyz="0.00144392186031067 -0.0169601633210853 -0.00169801629659933"
        rpy="0 0 0" />
      <mass
        value="0.685984085787247" />
      <inertia
        ixx="0.00956077848823135"
        ixy="-4.83564083228461E-05"
        ixz="-1.12762450536798E-05"
        iyy="0.00493338150806551"
        iyz="0.000203803662618588"
        izz="0.0117303046260317" />
    </inertial>
    <visual>
      <origin
        xyz="0 0 0"
        rpy="0 0 0" />
      <geometry>
        <mesh
          filename="package://walker_description/meshes/left_leg_link1.STL" />
      </geometry>
      <material
        name="">
        <color
          rgba="0.752941176470588 0.752941176470588 0.752941176470588 1" />
      </material>
    </visual>
    <collision>
      <origin
        xyz="0 0 0"
        rpy="0 0 0" />
      <geometry>
        <mesh
          filename="package://walker_description/meshes/left_leg_link1.STL" />
      </geometry>
    </collision>
  </link>
  <joint
    name="left_leg_joint1"
    type="fixed">
    <origin
      xyz="0.10911 -0.011583 -0.00049937"
      rpy="1.5708 -1.5708 0" />
    <parent
      link="left_leg_l3" />
    <child
      link="left_leg_link1" />
    <axis
      xyz="0 0 0" />
  </joint>
  <link
    name="left_leg_l4">
    <inertial>
      <origin
        xyz="0.144283841094366 -0.00102279547401057 -0.0603084014166758"
        rpy="0 0 0" />
      <mass
        value="0.562763238389389" />
      <inertia
        ixx="0.00348790903629806"
        ixy="-6.72197320848782E-05"
        ixz="-2.20660425922093E-05"
        iyy="0.00918390431395075"
        iyz="5.28347099368274E-06"
        izz="0.00803159482751147" />
    </inertial>
    <visual>
      <origin
        xyz="0 0 0"
        rpy="0 0 0" />
      <geometry>
        <mesh
          filename="package://walker_description/meshes/left_leg_l4.STL" />
      </geometry>
      <material
        name="">
        <color
          rgba="0.752941176470588 0.752941176470588 0.752941176470588 1" />
      </material>
    </visual>
    <collision>
      <origin
        xyz="0 0 0"
        rpy="0 0 0" />
      <geometry>
        <mesh
          filename="package://walker_description/meshes/left_leg_l4.STL" />
      </geometry>
    </collision>
  </link>
  <joint
    name="left_leg_j4"
    type="revolute">
    <origin
      xyz="0.062499 -0.18089 -0.011583"
      rpy="-1.5708 1.2439E-10 -1.5708" />
    <parent
      link="left_leg_link1" />
    <child
      link="left_leg_l4" />
    <axis
      xyz="0 0 1" />
    <limit
      lower="-0.2622"
      upper="2.2672"
      effort="270"
      velocity="0" />
  </joint>
  <link
    name="left_leg_l5">
    <inertial>
      <origin
        xyz="-8.2197777209192E-06 -0.000384779884713304 -0.000653186499701697"
        rpy="0 0 0" />
      <mass
        value="0.273284460901946" />
      <inertia
        ixx="0.00109932649823027"
        ixy="-3.62028115995048E-07"
        ixz="8.85639972401551E-08"
        iyy="0.00122863403306236"
        iyz="7.05340902749059E-07"
        izz="0.00151550242399035" />
    </inertial>
    <visual>
      <origin
        xyz="0 0 0"
        rpy="0 0 0" />
      <geometry>
        <mesh
          filename="package://walker_description/meshes/left_leg_l5.STL" />
      </geometry>
      <material
        name="">
        <color
          rgba="0.752941176470588 0.752941176470588 0.752941176470588 1" />
      </material>
    </visual>
    <collision>
      <origin
        xyz="0 0 0"
        rpy="0 0 0" />
      <geometry>
        <mesh
          filename="package://walker_description/meshes/left_leg_l5.STL" />
      </geometry>
    </collision>
  </link>
  <joint
    name="left_leg_j5"
    type="revolute">
    <origin
      xyz="0.275 0 -0.0622"
      rpy="-1.0408E-16 -3.8765E-15 -1.2439E-10" />
    <parent
      link="left_leg_l4" />
    <child
      link="left_leg_l5" />
    <axis
      xyz="0 0 1" />
    <limit
      lower="-1.4872"
      upper="0.6112"
      effort="160"
      velocity="0" />
  </joint>
  <link
    name="left_leg_l6">
    <inertial>
      <origin
        xyz="-8.21977772069715E-06 -0.000653186499701752 0.00038477988471336"
        rpy="0 0 0" />
      <mass
        value="0.273284460901946" />
      <inertia
        ixx="0.00109932649823027"
        ixy="8.85639972402085E-08"
        ixz="3.62028115994795E-07"
        iyy="0.00151550242399035"
        iyz="-7.05340902749067E-07"
        izz="0.00122863403306236" />
    </inertial>
    <visual>
      <origin
        xyz="0 0 0"
        rpy="0 0 0" />
      <geometry>
        <mesh
          filename="package://walker_description/meshes/left_leg_l6.STL" />
      </geometry>
      <material
        name="">
        <color
          rgba="0.752941176470588 0.752941176470588 0.752941176470588 1" />
      </material>
    </visual>
    <collision>
      <origin
        xyz="0 0 0"
        rpy="0 0 0" />
      <geometry>
        <mesh
          filename="package://walker_description/meshes/left_leg_l6.STL" />
      </geometry>
    </collision>
  </link>
  <joint
    name="left_leg_j6"
    type="revolute">
    <origin
      xyz="0 0 0"
      rpy="1.5708 -1.0785E-32 0" />
    <parent
      link="left_leg_l5" />
    <child
      link="left_leg_l6" />
    <axis
      xyz="0 0 1" />
    <limit
      lower="-0.6112"
      upper="0.6112"
      effort="160"
      velocity="0" />
  </joint>
  <link
    name="left_leg_link2">
    <inertial>
      <origin
        xyz="5.34681040891272E-05 -0.0269451313812346 0.0158898260414049"
        rpy="0 0 0" />
      <mass
        value="0.846568059732236" />
      <inertia
        ixx="0.00616225237983881"
        ixy="1.08684830545396E-06"
        ixz="-1.69375185248199E-06"
        iyy="0.005633025666212"
        iyz="0.000156811758916287"
        izz="0.00283978255808244" />
    </inertial>
    <visual>
      <origin
        xyz="0 0 0"
        rpy="0 0 0" />
      <geometry>
        <mesh
          filename="package://walker_description/meshes/left_leg_link2.STL" />
      </geometry>
      <material
        name="">
        <color
          rgba="0.752941176470588 0.752941176470588 0.752941176470588 1" />
      </material>
    </visual>
    <collision>
      <origin
        xyz="0 0 0"
        rpy="0 0 0" />
      <geometry>
        <mesh
          filename="package://walker_description/meshes/left_leg_link2.STL" />
      </geometry>
    </collision>
  </link>
  <joint
    name="left_leg_joint2"
    type="fixed">
    <origin
      xyz="0.075748 0 0"
      rpy="-5.5511E-17 -2.918E-16 1.5708" />
    <parent
      link="left_leg_l6" />
    <child
      link="left_leg_link2" />
    <axis
      xyz="0 0 0" />
  </joint>
</robot>
